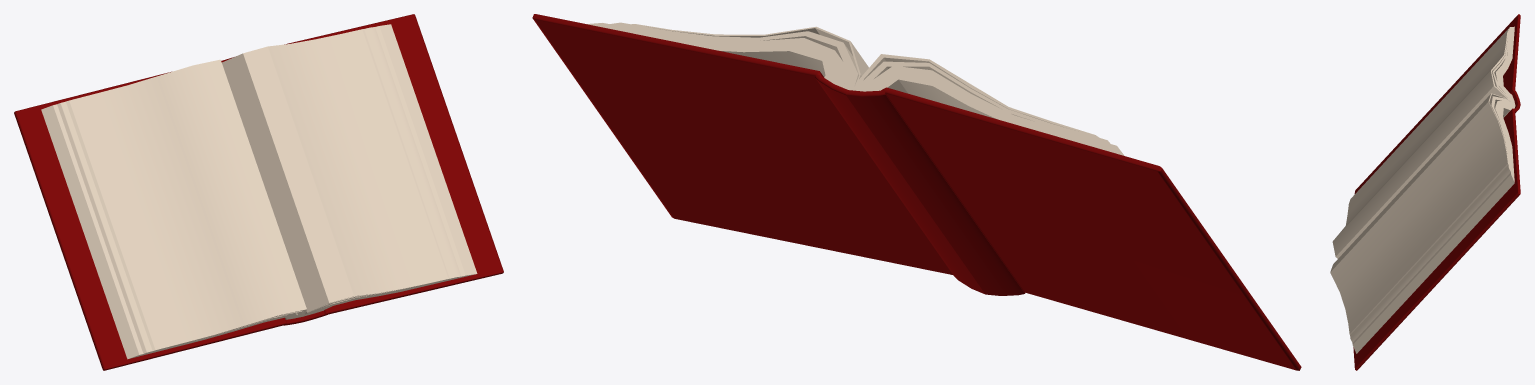
Rendered from book_open.glb.
3 views of the same model, side by side, from view 1: azimuth 30°, elevation 25°; view 2: azimuth 150°, elevation 25°; view 3: azimuth 270°, elevation 25° (orthographic). The views are drawn at different scales.
Parts seen in each view (by area): view 1: book_open_pages; view 2: book_open_pages; view 3: book_open_pages.
Boxes of the visible parts, x1,y1,x2,y2 form: book_open_pages: [14, 14, 503, 370]; book_open_pages: [532, 14, 1301, 370]; book_open_pages: [1330, 14, 1520, 370].
Size of the model in its own units: 0.695 by 0.3557 by 0.3128.
Materials: 1 (1 with a texture image).
